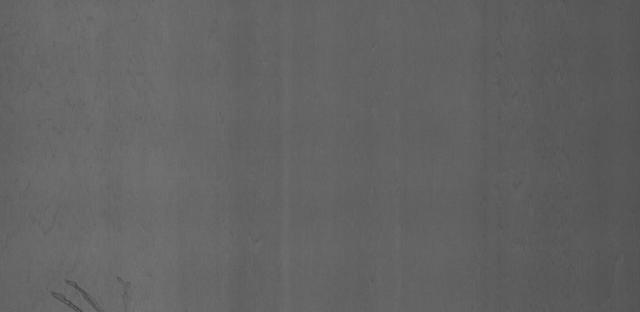water_spot: (44, 262, 134, 312)
